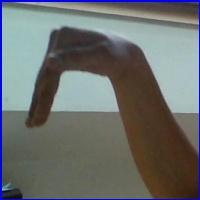A: (18, 23, 153, 139)
